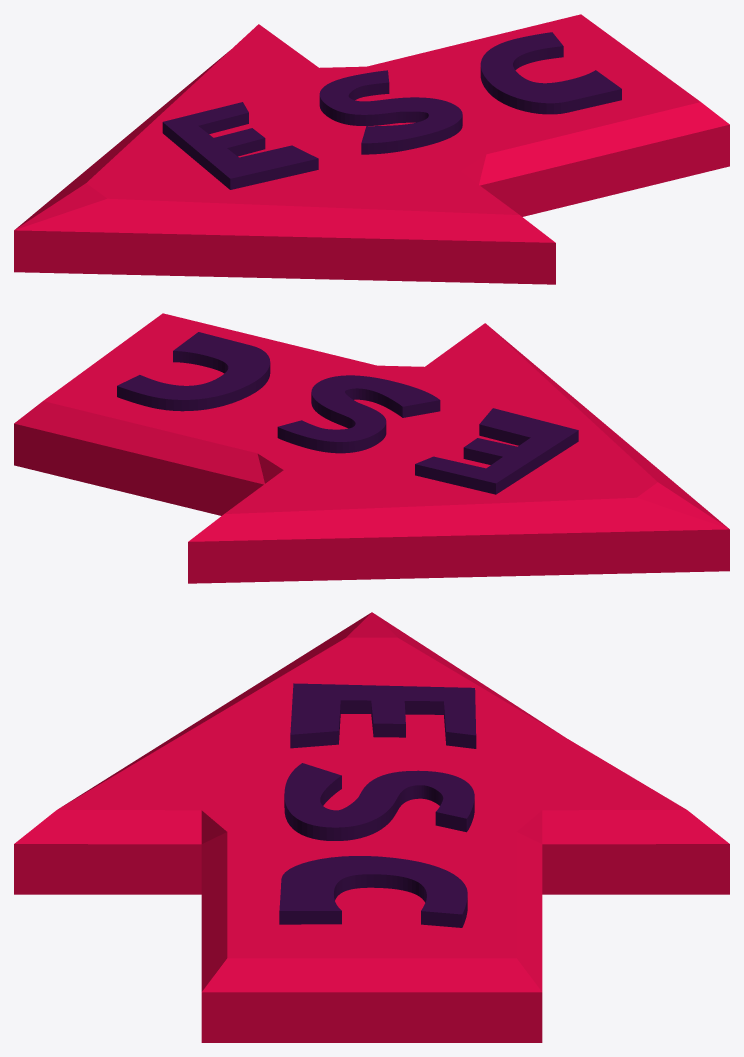
Rendered from back_button.fbx.
3 views of the same model, one above another, from view 1: azimuth 30°, elevation 25°; view 2: azimuth 150°, elevation 25°; view 3: azimuth 270°, elevation 25° (orthographic). The views are drawn at different scales.
Parts seen in each view (by area): view 1: Plane, Text; view 2: Plane, Text; view 3: Plane, Text.
Part boxes in pixels (<box>): Plane: <box>14,14,729,284</box>; Text: <box>162,32,621,189</box>; Plane: <box>14,313,729,583</box>; Text: <box>117,332,578,494</box>; Plane: <box>14,612,729,1042</box>; Text: <box>279,683,476,927</box>.
Bounding box in the file's own units: 177 × 18.96 × 141.
